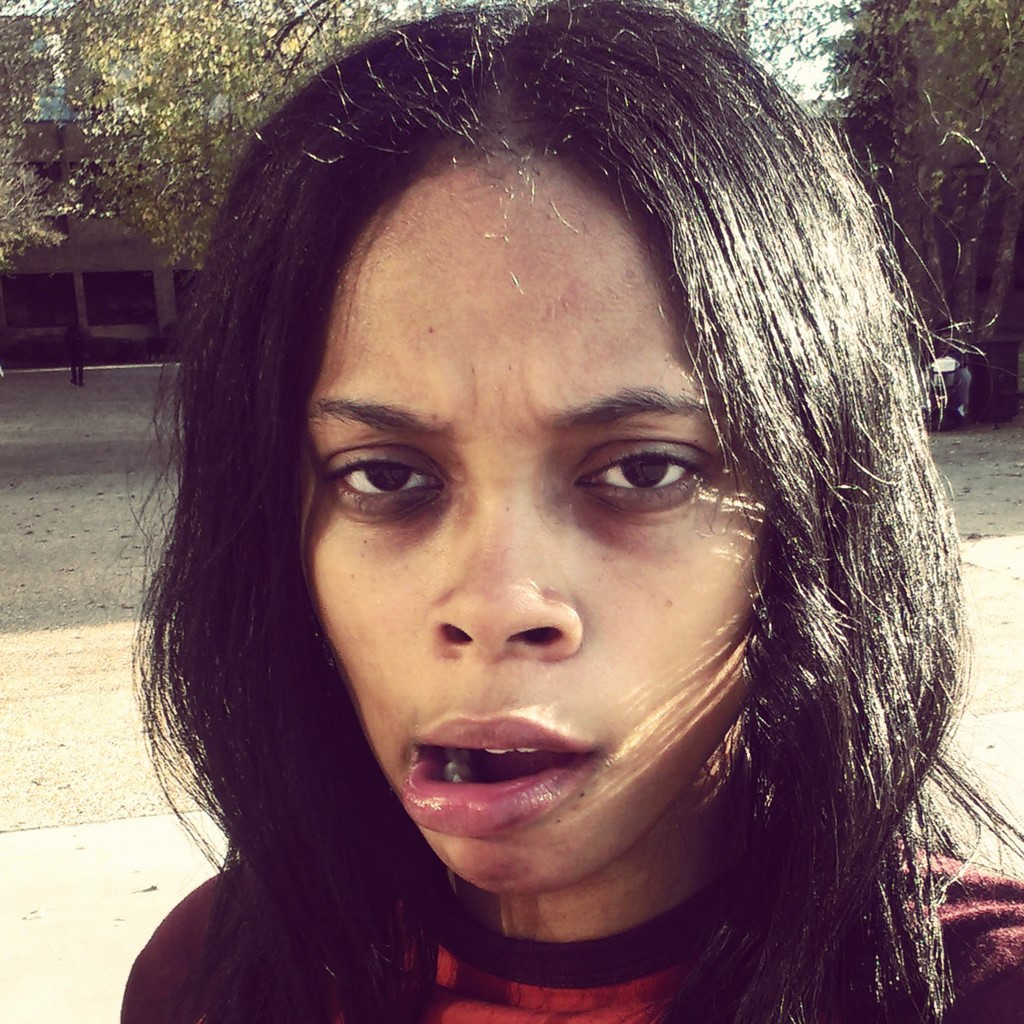sin_mascara: (245, 87, 835, 910)
